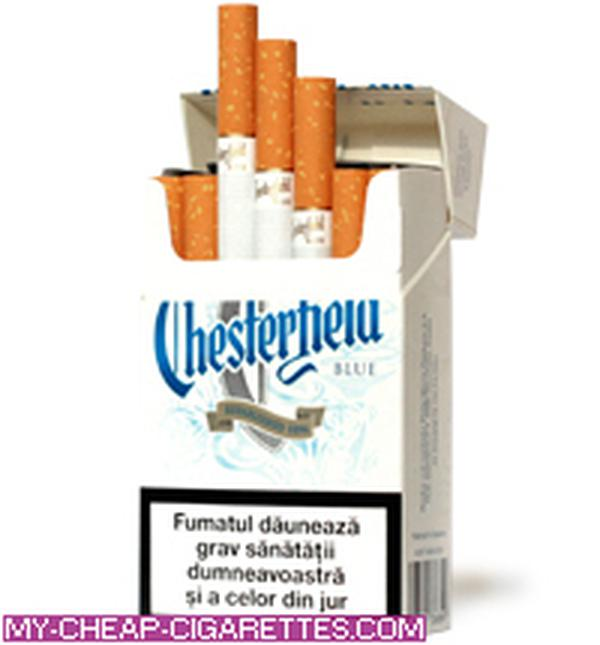chesterfield_blue: (144, 180, 401, 616)
